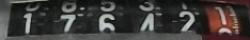digits: (211, 2, 239, 37), (21, 5, 44, 37), (57, 2, 79, 34), (97, 1, 118, 34), (176, 4, 199, 34), (138, 1, 158, 34)
